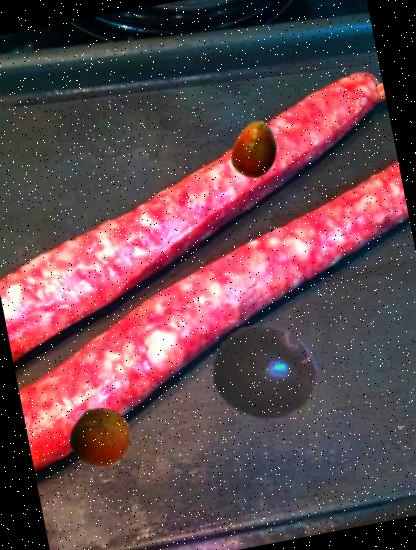Mango: (221, 114, 290, 184)
Nut: (64, 401, 136, 473)
Passion: (204, 310, 327, 434)
